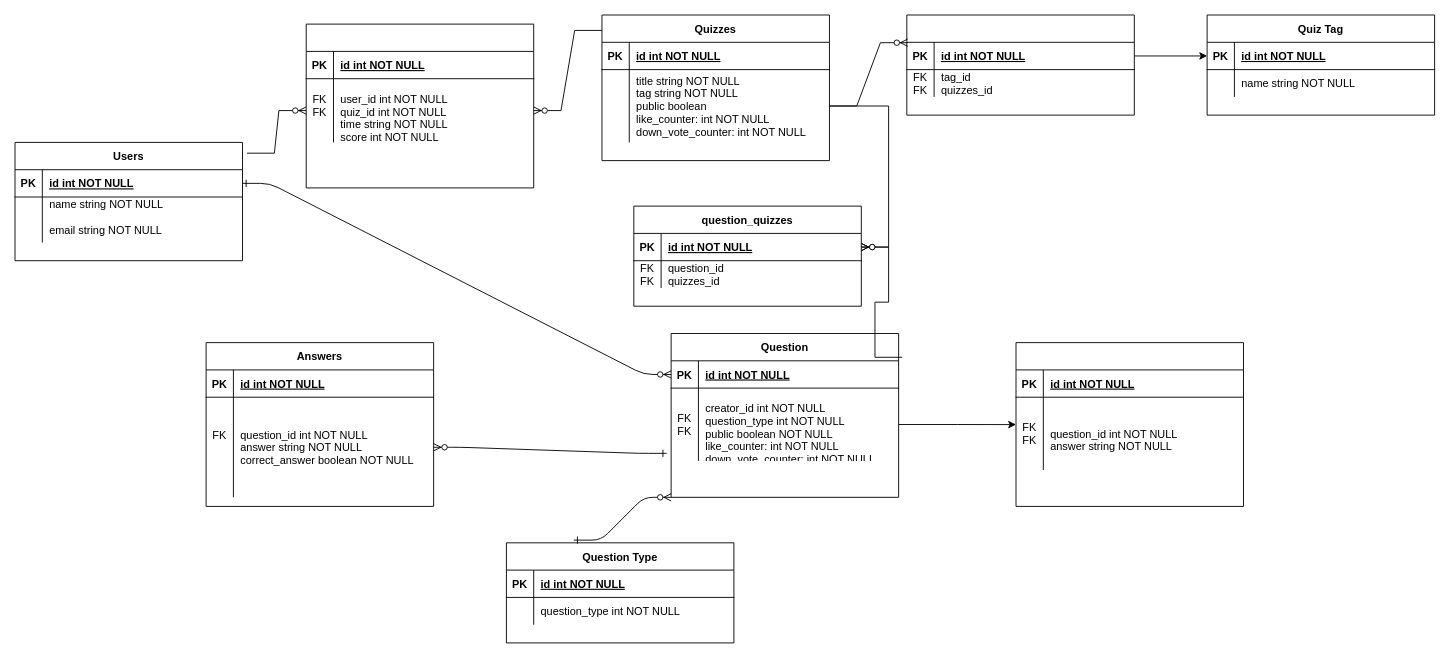
This 1450x658 diagram has some shape labels left out. The shapes that lost their labels are listed below. From the top down, each one's box as (x1, y1, x2, y2) in pixels, then its label:
(906, 14, 1134, 115): quizzes_tag
(305, 23, 534, 188): Quiz Submissions
(1015, 342, 1244, 506): Question_Attempt
